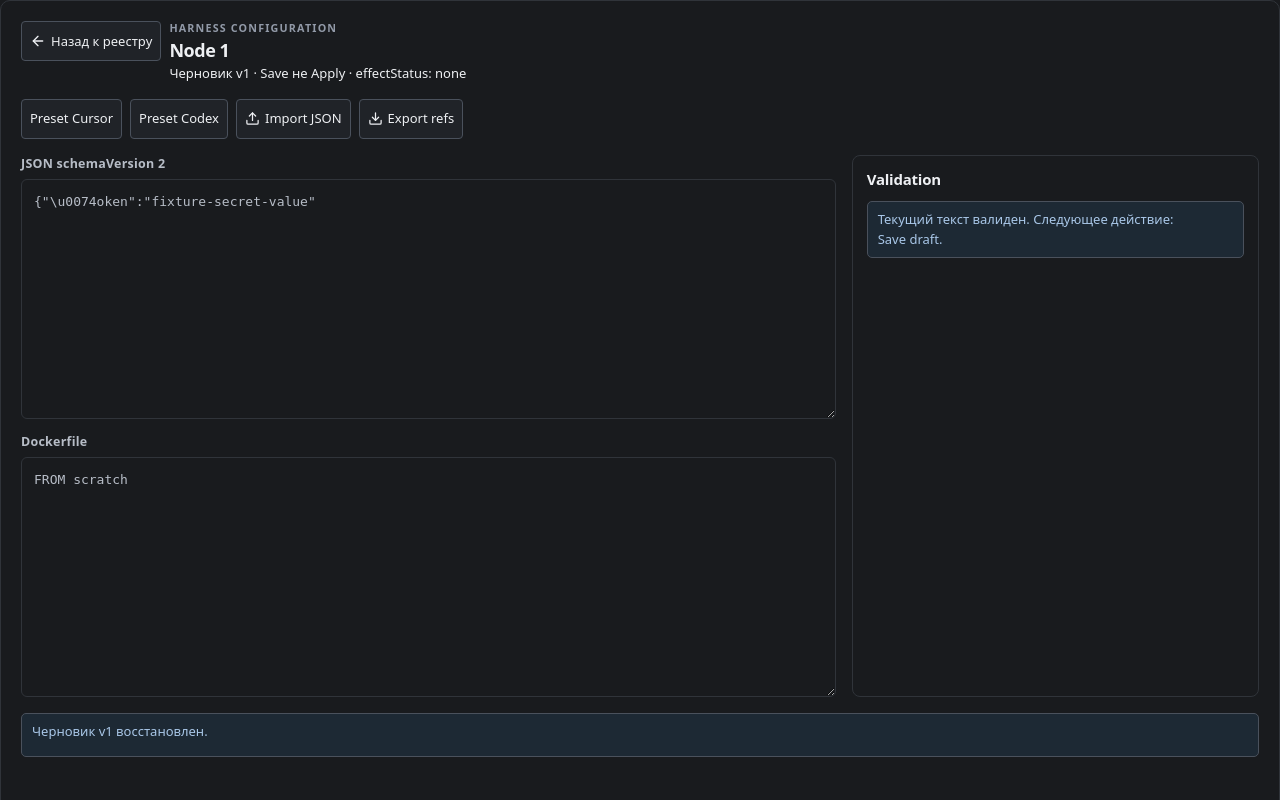
it: re-runs the escaped-key secret gate before export and creates no blob
Expected: the text "Черновик v1 восстановлен." is shown, x1=21 y1=713 x2=1259 y2=757
Click the button "Export refs".
click(411, 119)  # box x1=359 y1=99 x2=463 y2=139
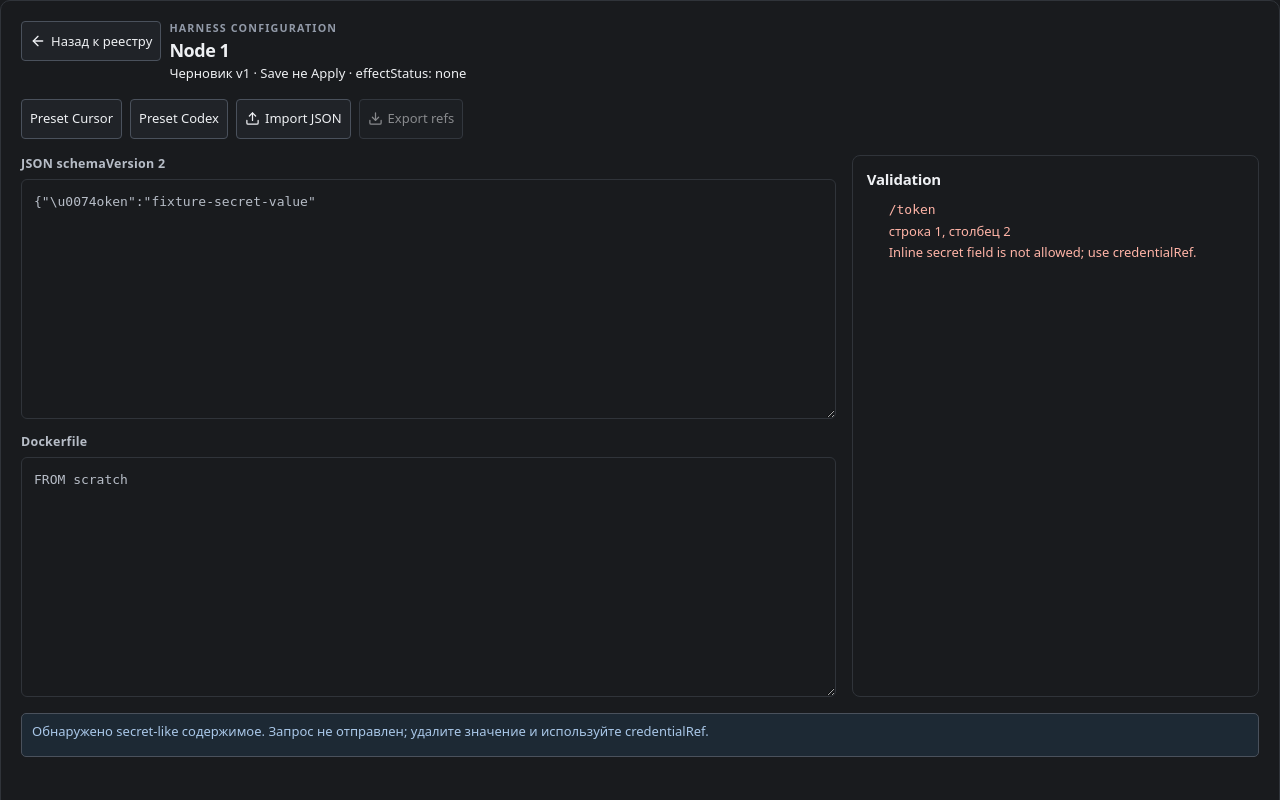
Now the text "Запрос не отправлен" is shown, box x1=32 y1=722 x2=709 y2=740
